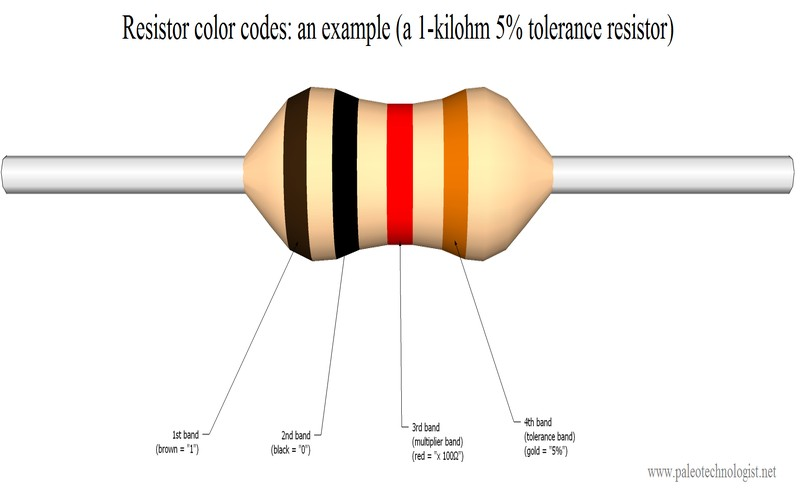Resistor: (217, 46, 570, 295)
